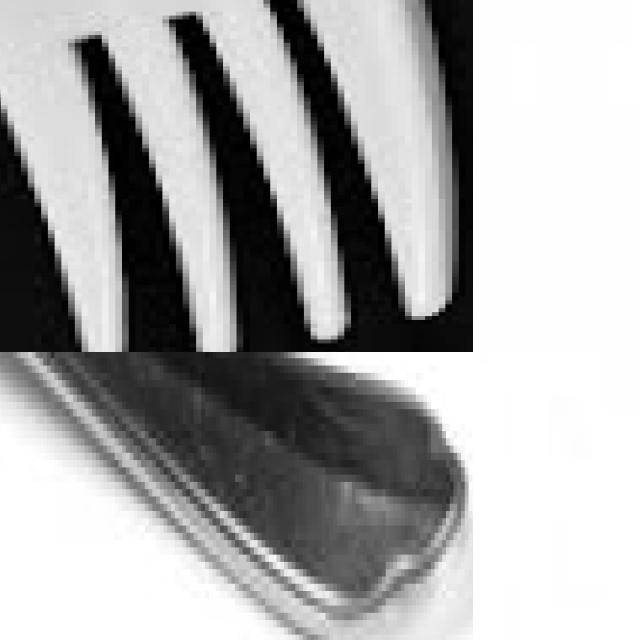forks: (0, 0, 473, 352)
